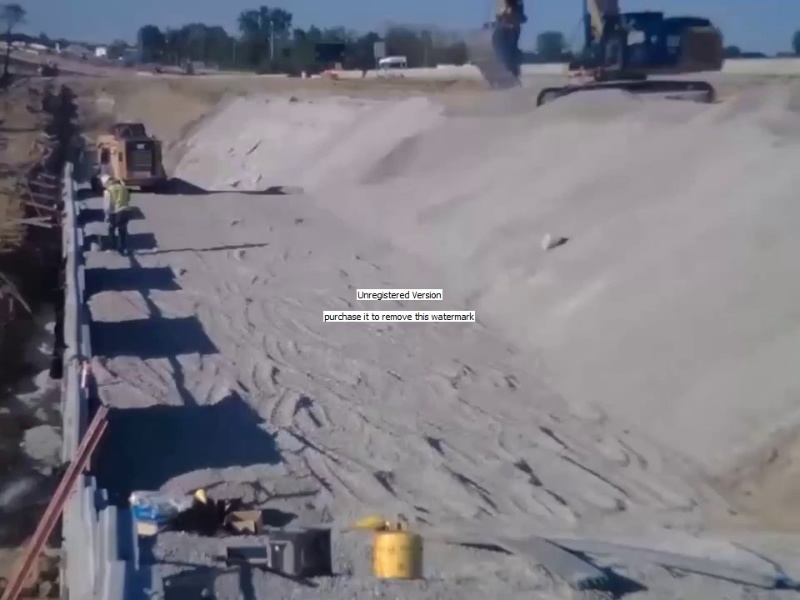bulldozer: (95, 122, 167, 193)
excavator: (461, 1, 724, 114)
hardhat: (99, 174, 113, 187)
person: (98, 172, 131, 250)
wall: (56, 157, 140, 600)
